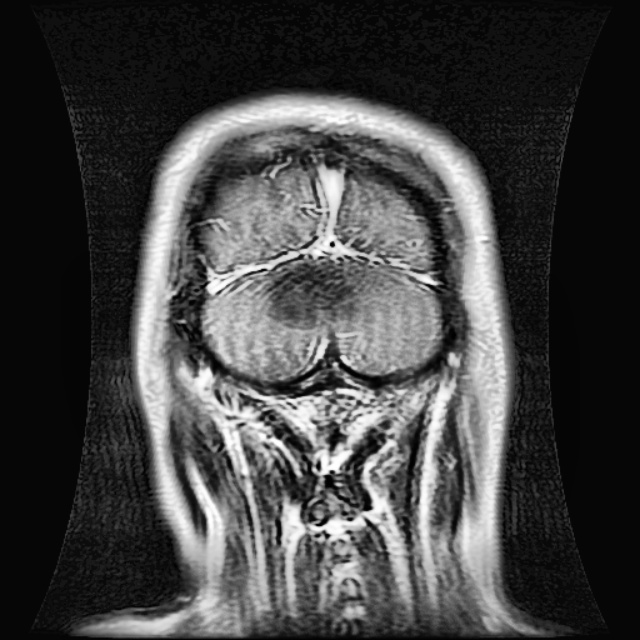Meningioma: (265, 254, 360, 329)
